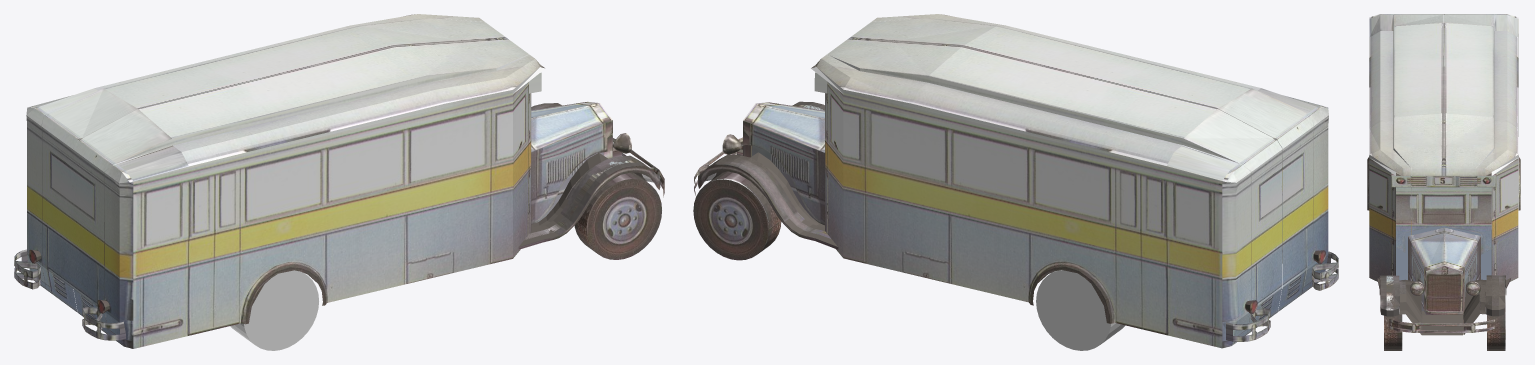
File: ZIS-8.dae
3 views of the same model, side by side, from view 1: azimuth 30°, elevation 25°; view 2: azimuth 150°, elevation 25°; view 3: azimuth 270°, elevation 25° (orthographic). The views are drawn at different scales.
Parts seen in each view (by area): view 1: кузов, капот, передние_колёса, задние_колёса_001, крылья, задний_бампер; view 2: кузов, капот, передние_колёса, задние_колёса_001, крылья, задний_бампер; view 3: кузов, капот, крылья, передние_колёса, передний_бампер, фары_001.
Boxes of the visible parts, x1,y1,x2,y2 form: кузов: (26, 14, 545, 348); капот: (531, 101, 612, 224); передние_колёса: (574, 172, 661, 259); задние_колёса_001: (230, 270, 318, 350); крылья: (518, 103, 660, 249); задний_бампер: (14, 249, 125, 340); кузов: (811, 14, 1328, 348); капот: (743, 102, 824, 225); передние_колёса: (693, 171, 781, 260); задние_колёса_001: (1036, 270, 1125, 350); крылья: (698, 101, 838, 249); задний_бампер: (1226, 251, 1338, 341); кузов: (1367, 14, 1520, 281); капот: (1408, 227, 1480, 314); крылья: (1377, 275, 1510, 335); передние_колёса: (1384, 287, 1505, 350); передний_бампер: (1389, 319, 1495, 332); фары_001: (1410, 281, 1480, 295).
Bounding box in the file's own units: 7.18 × 2.24 × 2.7.
8 materials, 7 textured.
